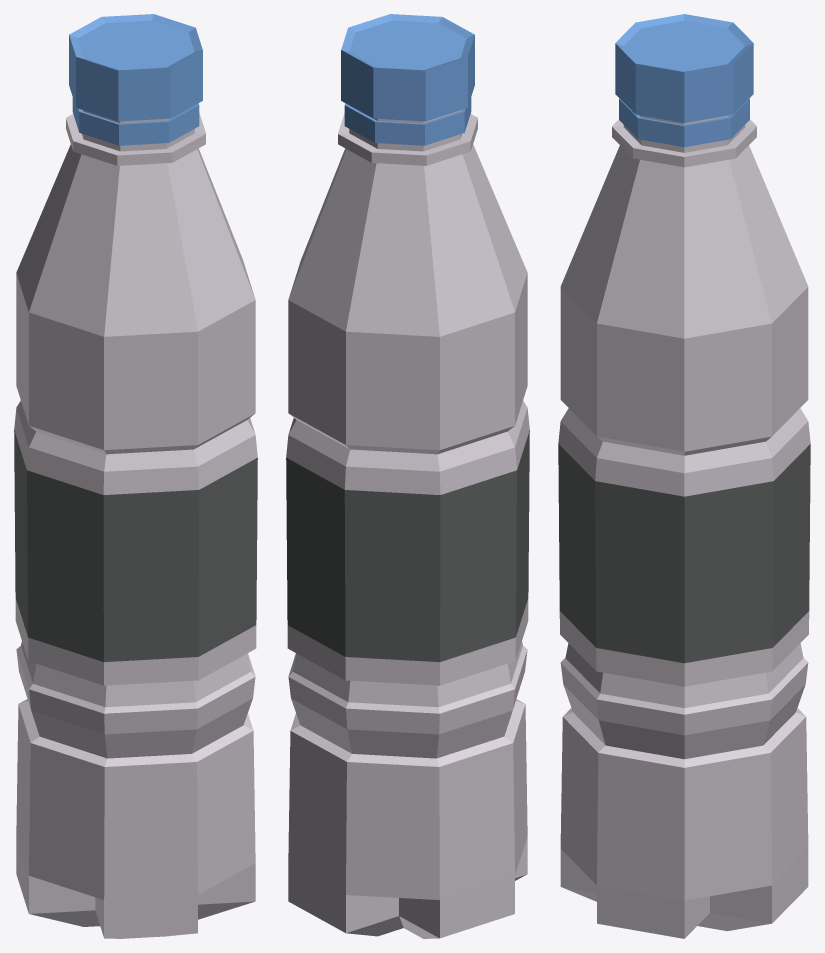
The model's file is Buttle2.fbx.
3 renders of one model, left to right at view 1: azimuth 30°, elevation 25°; view 2: azimuth 150°, elevation 25°; view 3: azimuth 270°, elevation 25°, orthographic.
Parts seen in each view (by area): view 1: Cylinder; view 2: Cylinder; view 3: Cylinder.
Part boxes in pixels (x1,y1,x2,y2): Cylinder: (14,14,257,938); Cylinder: (286,14,529,938); Cylinder: (558,14,810,938).
Bounding box in the file's own units: 387 × 1476 × 388.
